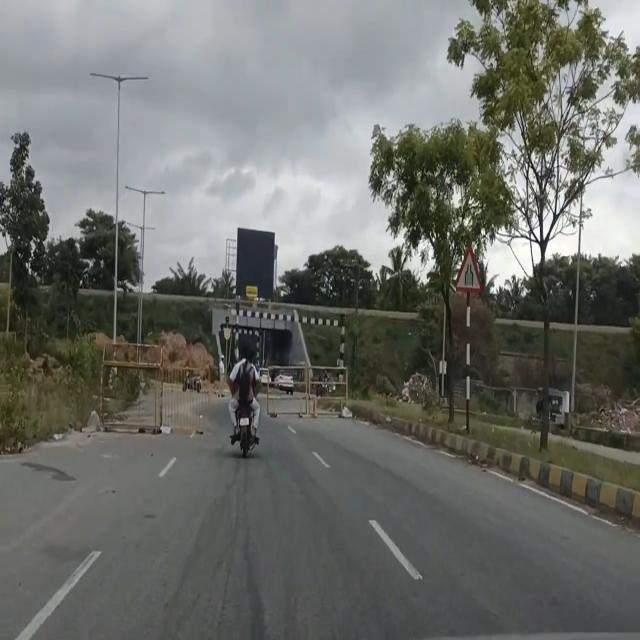bien_nguy_hiem: (454, 241, 483, 295)
